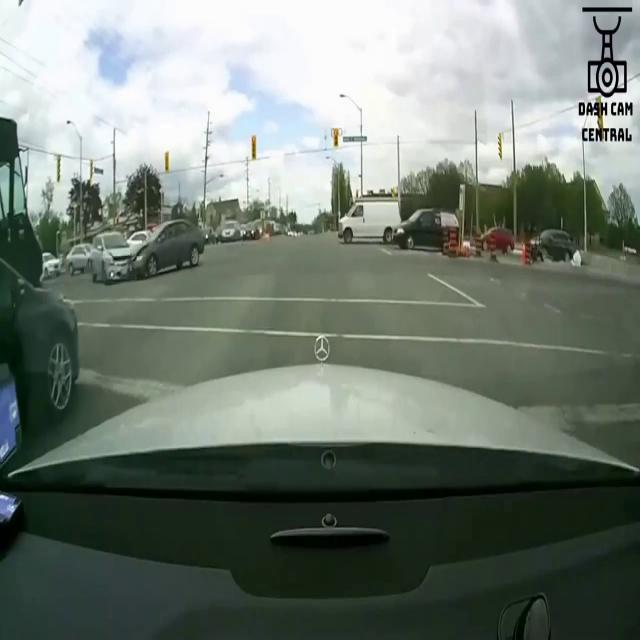accident: (90, 222, 206, 278)
